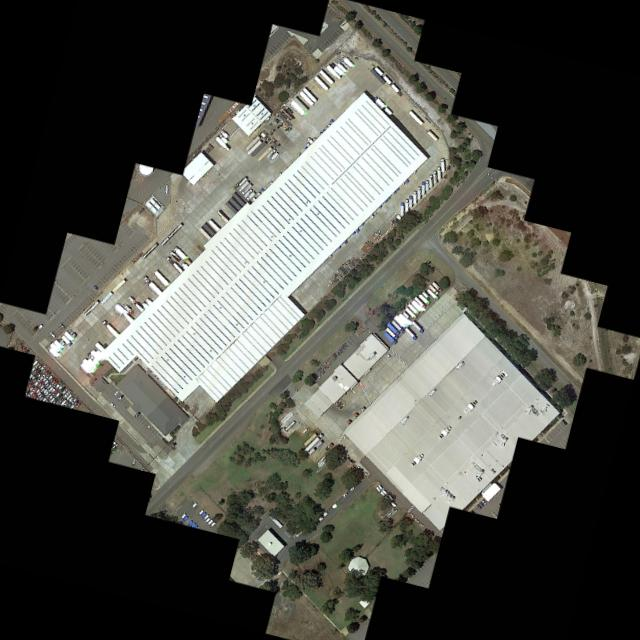large-vehicle: (99, 279, 125, 304), (159, 222, 182, 246), (303, 433, 322, 452), (373, 96, 391, 115), (140, 242, 158, 259), (101, 320, 118, 338), (153, 270, 168, 286), (312, 75, 327, 91), (369, 68, 384, 84), (249, 141, 265, 156), (407, 110, 422, 125), (301, 87, 316, 102), (256, 146, 271, 161), (246, 140, 261, 155), (244, 135, 259, 150), (318, 69, 332, 84), (298, 91, 312, 106), (292, 97, 307, 111), (227, 196, 241, 210), (197, 226, 211, 240), (302, 432, 316, 446), (409, 320, 423, 333), (231, 192, 244, 206), (233, 176, 246, 189), (384, 327, 397, 340), (385, 322, 398, 335), (403, 327, 416, 340), (425, 288, 438, 301), (224, 200, 237, 213), (172, 247, 186, 259), (382, 332, 395, 344), (201, 223, 214, 235), (390, 320, 402, 332), (404, 307, 416, 319), (406, 303, 418, 315), (412, 296, 424, 308), (417, 293, 429, 305), (215, 210, 227, 222), (411, 300, 422, 312), (207, 219, 218, 231), (60, 335, 71, 346), (240, 183, 251, 194), (237, 180, 248, 191), (168, 250, 179, 261), (427, 284, 438, 295), (430, 281, 441, 292), (426, 130, 436, 141), (389, 83, 398, 93), (242, 189, 251, 198), (245, 191, 254, 200), (218, 134, 227, 143), (373, 66, 382, 75), (382, 75, 390, 84), (439, 158, 444, 172), (269, 152, 277, 160), (219, 130, 227, 137), (314, 440, 321, 448), (401, 311, 408, 319), (399, 202, 403, 215), (420, 182, 424, 195), (428, 175, 432, 188), (420, 291, 427, 298), (436, 167, 440, 179), (432, 170, 435, 184), (404, 199, 407, 212), (412, 191, 415, 204), (416, 186, 419, 199), (408, 195, 411, 207), (424, 180, 427, 191)
small-vehicle: (266, 149, 274, 158), (112, 389, 119, 396), (35, 323, 42, 330), (116, 394, 123, 400), (48, 331, 54, 338), (136, 208, 143, 214), (31, 359, 37, 366), (33, 379, 39, 386), (208, 521, 215, 527), (205, 519, 212, 525), (110, 440, 116, 446), (134, 411, 140, 417), (58, 323, 64, 329), (38, 374, 44, 380), (30, 373, 36, 379), (32, 367, 38, 373), (385, 353, 391, 359), (560, 419, 566, 425), (186, 520, 192, 526), (181, 516, 187, 522), (179, 513, 185, 519), (203, 517, 209, 523), (199, 512, 205, 518), (34, 387, 40, 393), (50, 377, 56, 383), (54, 382, 60, 388), (190, 502, 196, 508), (51, 398, 57, 404), (65, 401, 71, 407), (61, 388, 67, 394), (47, 393, 53, 399), (145, 423, 151, 428), (109, 401, 114, 407), (475, 504, 481, 509), (478, 501, 483, 507), (479, 499, 485, 504), (41, 376, 47, 381), (27, 381, 32, 387), (32, 376, 37, 382), (28, 372, 33, 378), (43, 369, 48, 375), (37, 380, 42, 386), (202, 514, 208, 519), (197, 509, 202, 515), (47, 373, 52, 379), (44, 389, 49, 395), (42, 387, 48, 392), (31, 395, 37, 400), (30, 392, 36, 397), (32, 385, 38, 390), (50, 386, 55, 392), (40, 386, 46, 391), (47, 382, 52, 388), (44, 381, 50, 386), (43, 378, 48, 384), (57, 384, 63, 389), (74, 402, 80, 407), (71, 397, 76, 403), (65, 394, 71, 399), (63, 391, 69, 396), (53, 388, 58, 394), (50, 395, 55, 401), (41, 396, 46, 402), (59, 386, 65, 391), (54, 391, 60, 396), (130, 459, 134, 466), (36, 372, 41, 377), (35, 369, 40, 374), (35, 361, 40, 366), (30, 365, 35, 370), (39, 365, 44, 370), (37, 363, 42, 368), (92, 285, 97, 290), (29, 385, 34, 390), (29, 390, 34, 395), (53, 380, 58, 385), (36, 390, 41, 395), (39, 383, 44, 388), (49, 376, 54, 381), (73, 399, 78, 404), (57, 393, 62, 398), (46, 391, 51, 396), (21, 346, 25, 352), (18, 345, 22, 350), (23, 349, 28, 353), (46, 371, 50, 376), (41, 368, 46, 372), (189, 523, 194, 527), (49, 385, 53, 390), (68, 396, 73, 400), (139, 466, 142, 471)
